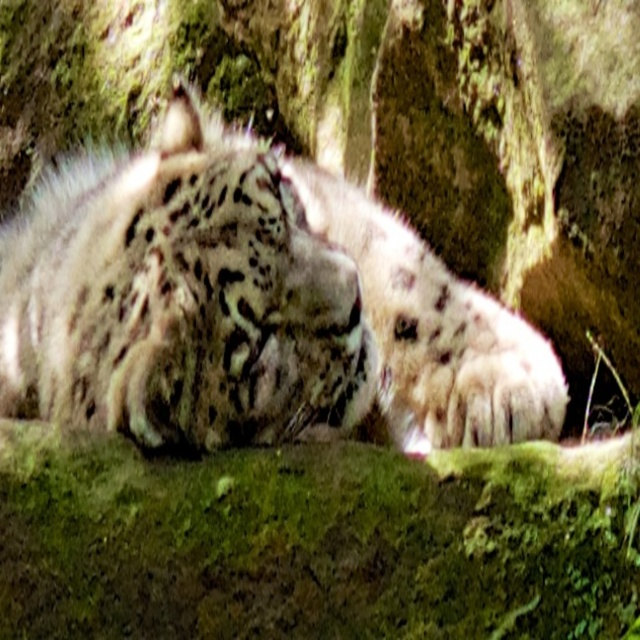Jaguar: (0, 75, 571, 447)
